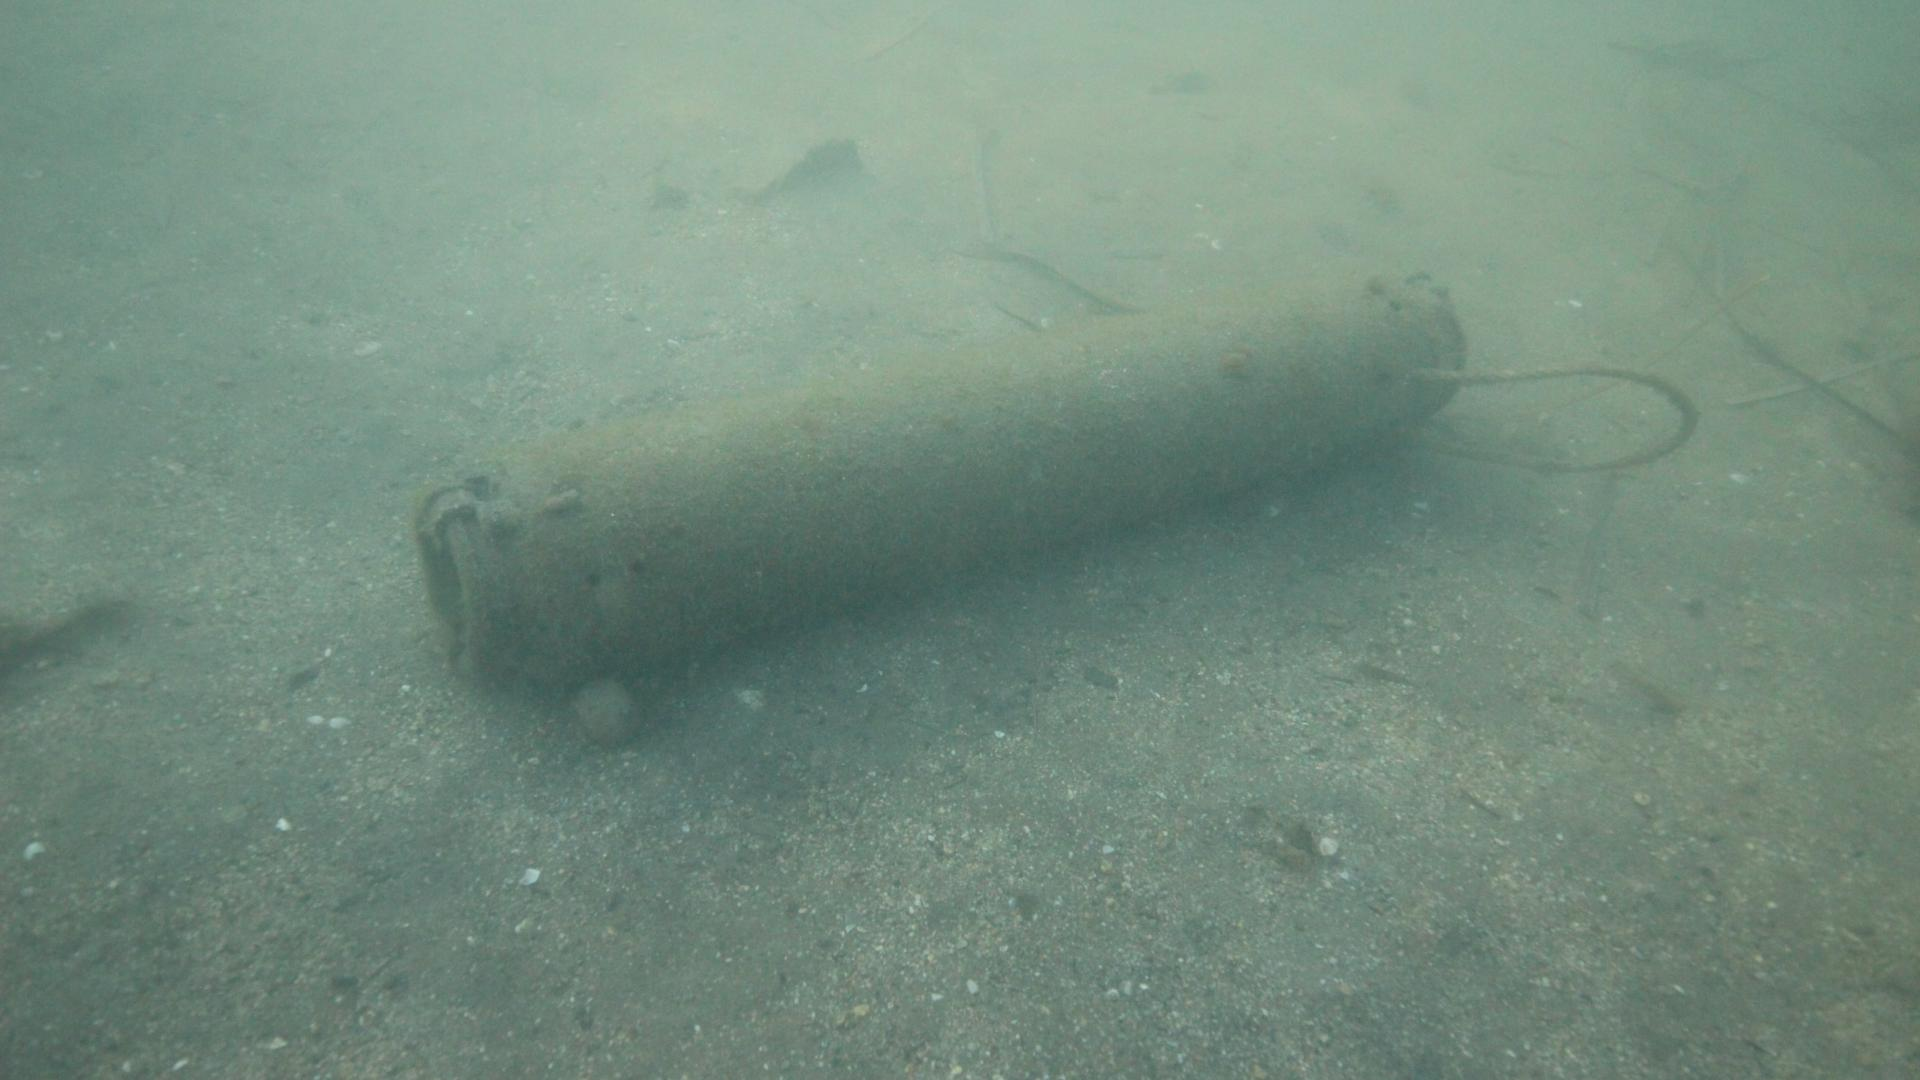eel fish trap: (415, 278, 1466, 694)
rope: (1408, 361, 1701, 473)
